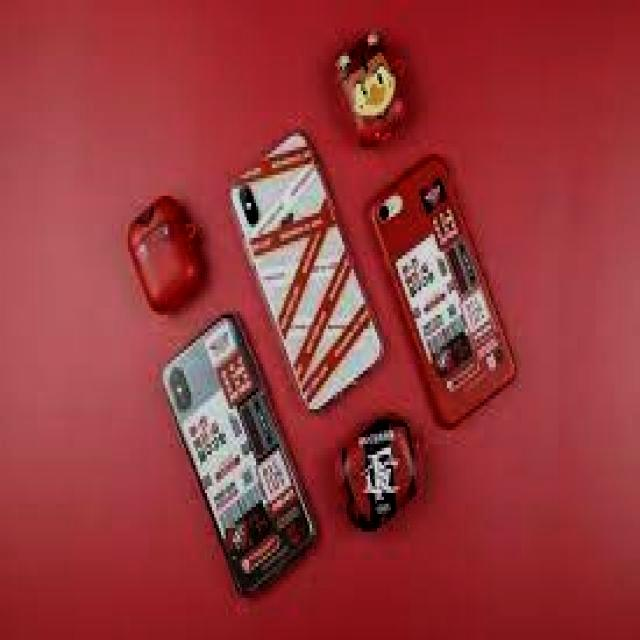phone: (158, 309, 317, 605), (237, 132, 391, 402), (375, 150, 520, 426)
